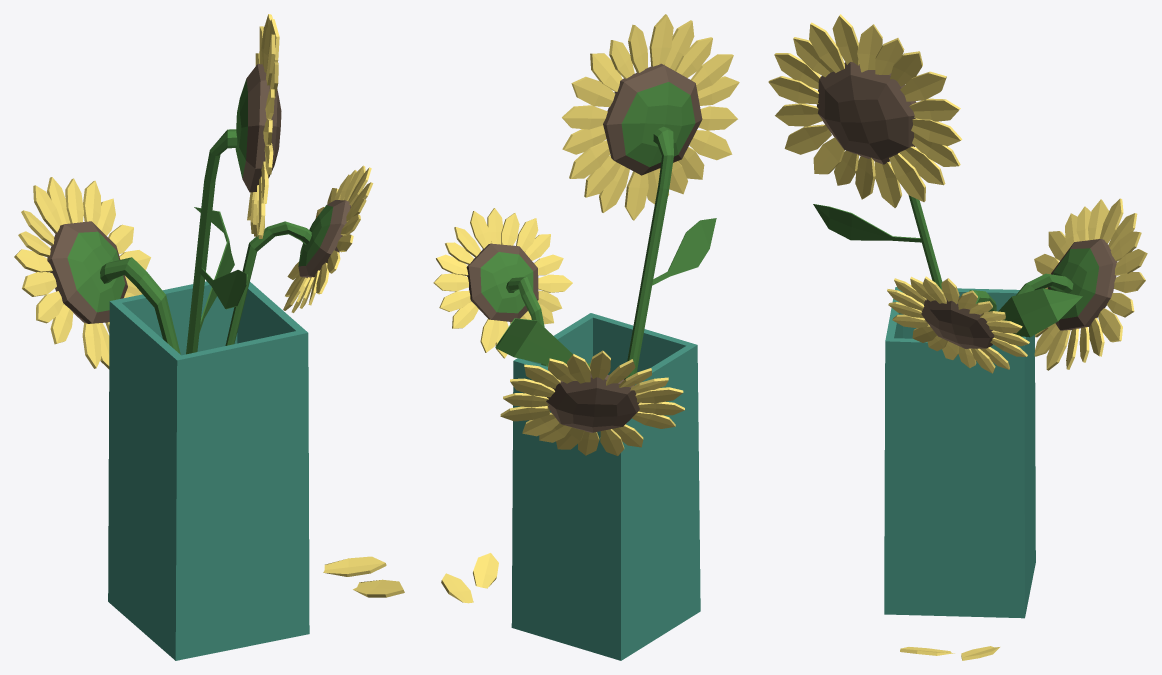
File: Sunflowers_3.fbx
3 renders of one model, left to right at view 1: azimuth 30°, elevation 25°; view 2: azimuth 150°, elevation 25°; view 3: azimuth 270°, elevation 25°, orthographic. The views are drawn at different scales.
Parts seen in each view (by area): view 1: Sunflowers_3; view 2: Sunflowers_3; view 3: Sunflowers_3.
Part boxes in pixels (x1=…): Sunflowers_3: x1=14, y1=14, x2=404, y2=660; Sunflowers_3: x1=433, y1=14, x2=739, y2=660; Sunflowers_3: x1=768, y1=14, x2=1147, y2=660.
Bounding box in the file's own units: 40.14 × 46.08 × 76.97.
